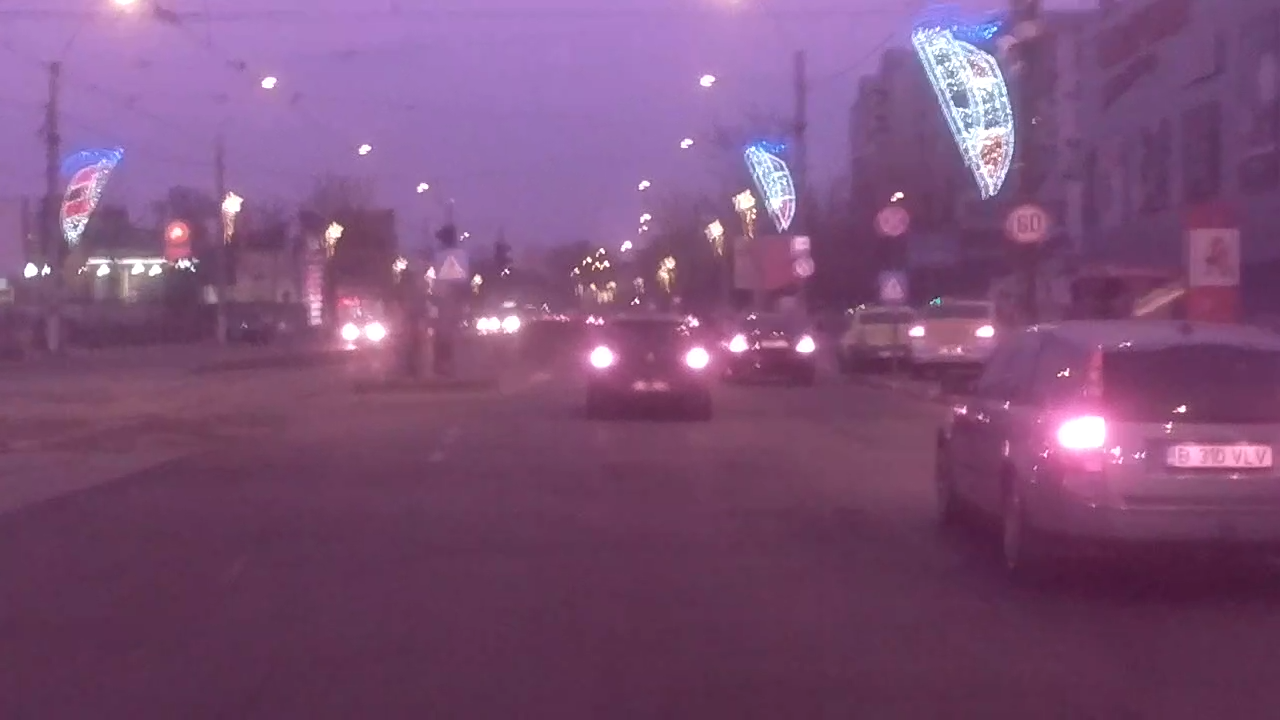license-plate: (1160, 440, 1278, 472)
